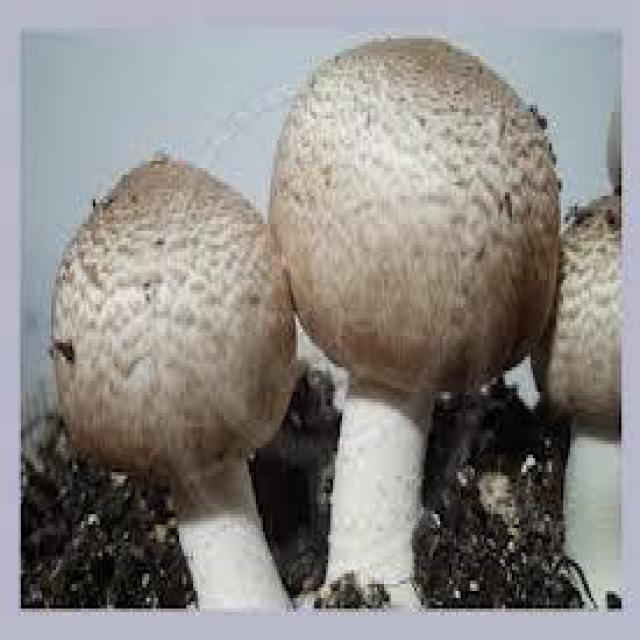Agaricus blazei Murill: (271, 37, 558, 610), (55, 152, 298, 610)
